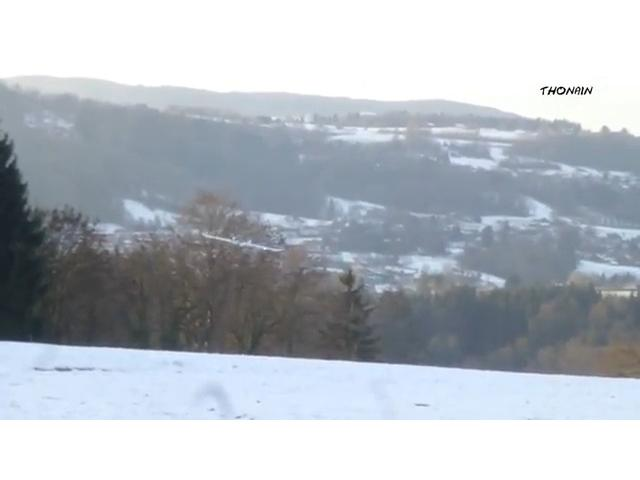Anti-Drone: (179, 218, 297, 264)
